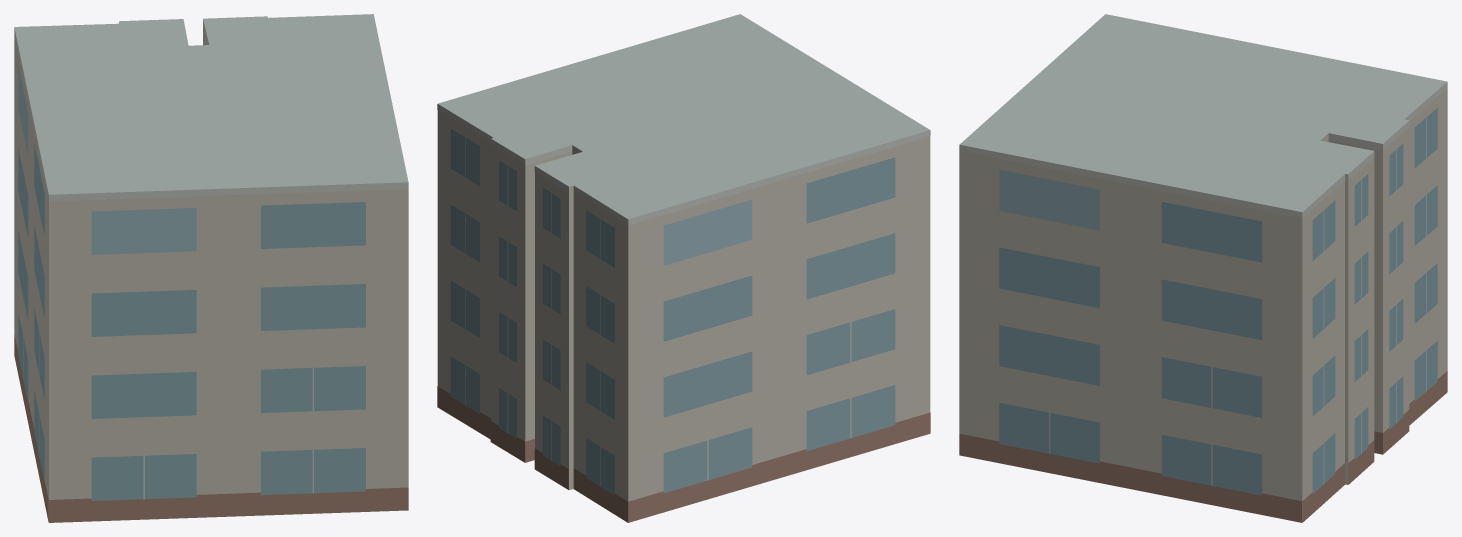
File: survey-upis-32990628.glb
3 views of the same model, side by side, from view 1: azimuth 30°, elevation 25°; view 2: azimuth 150°, elevation 25°; view 3: azimuth 270°, elevation 25° (orthographic). The views are drawn at different scales.
Parts seen in each view (by area): view 1: survey-upis-32990628.tmp; view 2: survey-upis-32990628.tmp; view 3: survey-upis-32990628.tmp.
Boxes of the visible parts, box(x1,y1,x2,y2) form: survey-upis-32990628.tmp: box(14, 14, 408, 522); survey-upis-32990628.tmp: box(437, 14, 930, 522); survey-upis-32990628.tmp: box(959, 14, 1447, 522).
Size of the model in its own units: 16.29 by 11.9 by 16.95.
